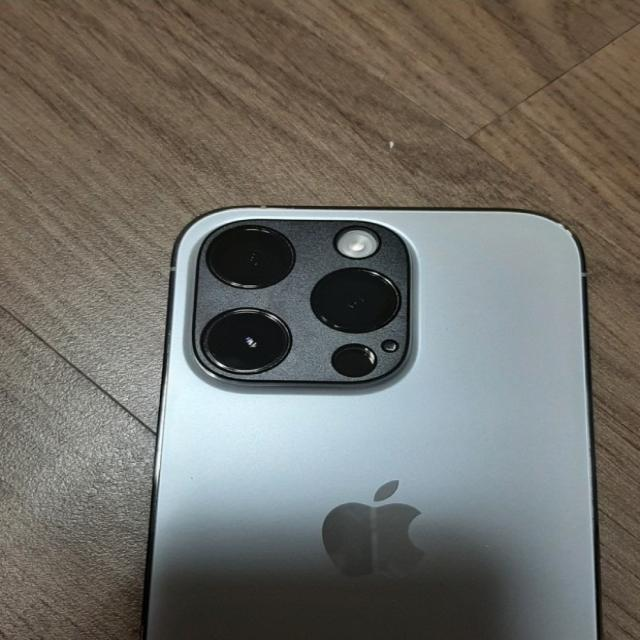Mobile: (143, 184, 602, 640)
